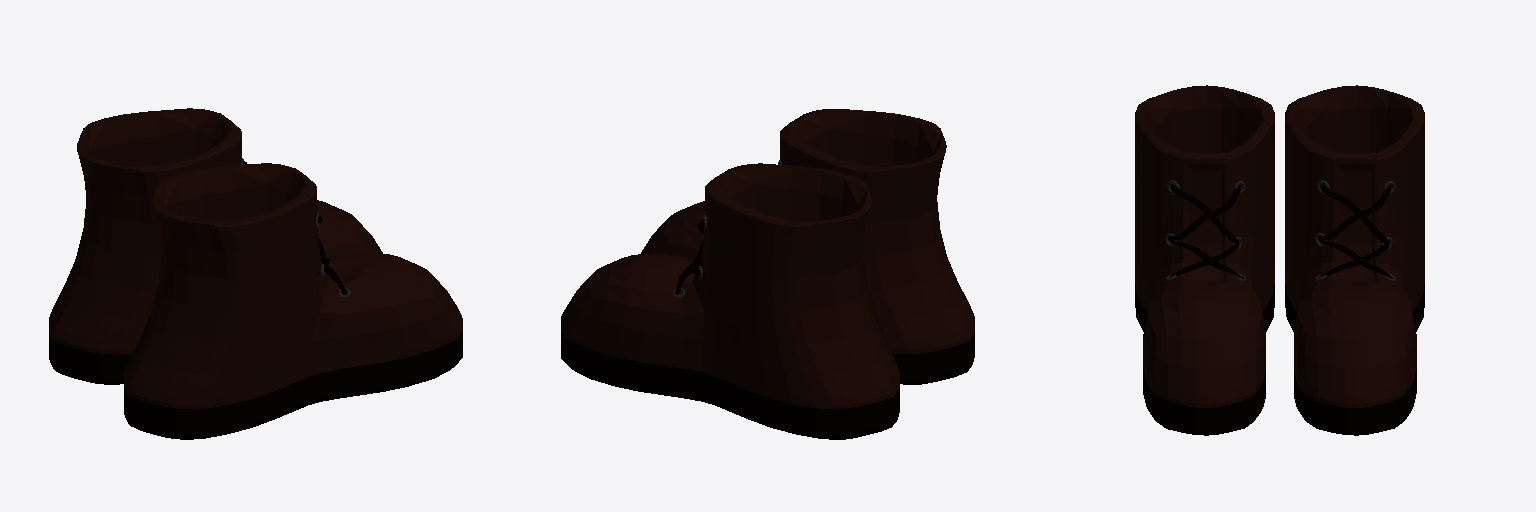
Rendered from boots.obj.
3 renders of one model, left to right at view 1: azimuth 30°, elevation 25°; view 2: azimuth 150°, elevation 25°; view 3: azimuth 270°, elevation 25°, orthographic.
Parts seen in each view (by area): view 1: pCube9, pCube13; view 2: pCube13, pCube9; view 3: pCube9, pCube13, pCube12, pCube11.
Boxes of the visible parts, x1=… form: pCube9: x1=124, y1=163, x2=462, y2=439; pCube13: x1=49, y1=108, x2=382, y2=384; pCube13: x1=561, y1=163, x2=899, y2=439; pCube9: x1=641, y1=109, x2=974, y2=384; pCube9: x1=1135, y1=85, x2=1274, y2=435; pCube13: x1=1285, y1=85, x2=1424, y2=435; pCube12: x1=1318, y1=185, x2=1392, y2=278; pCube11: x1=1168, y1=185, x2=1242, y2=278.
Bounding box in the file's own units: 12.43 × 7.6 × 9.46.